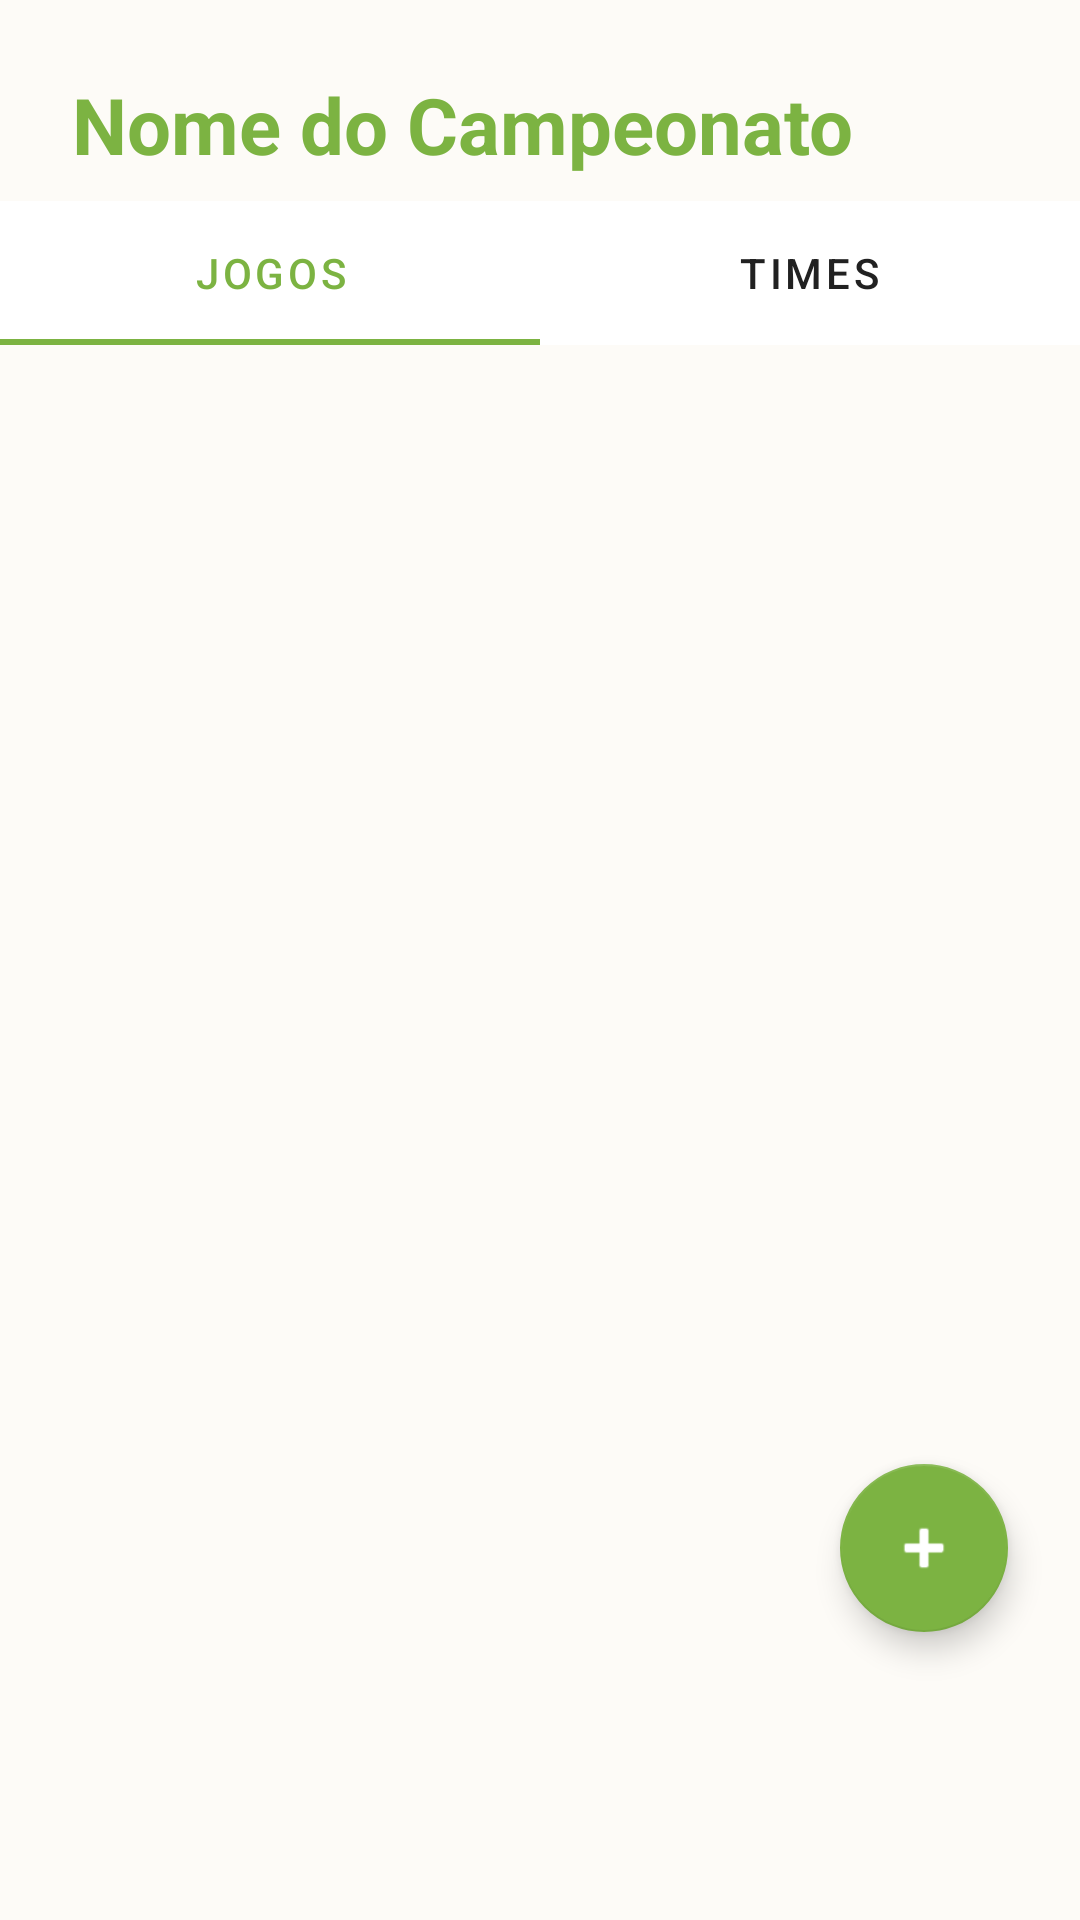

Locate icon controls on the screen. Image size 1080×1920, boxes as (x1, y1, x2, y2).
add: (840, 1464, 1008, 1632)
